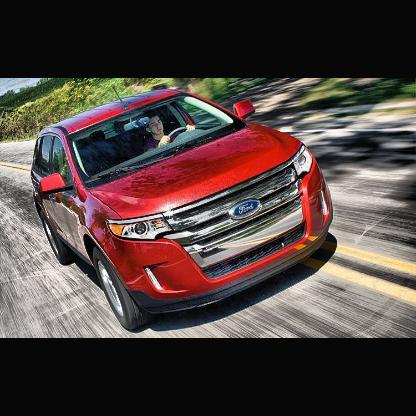Ford Edge SUV 2012: (33, 90, 334, 330)
